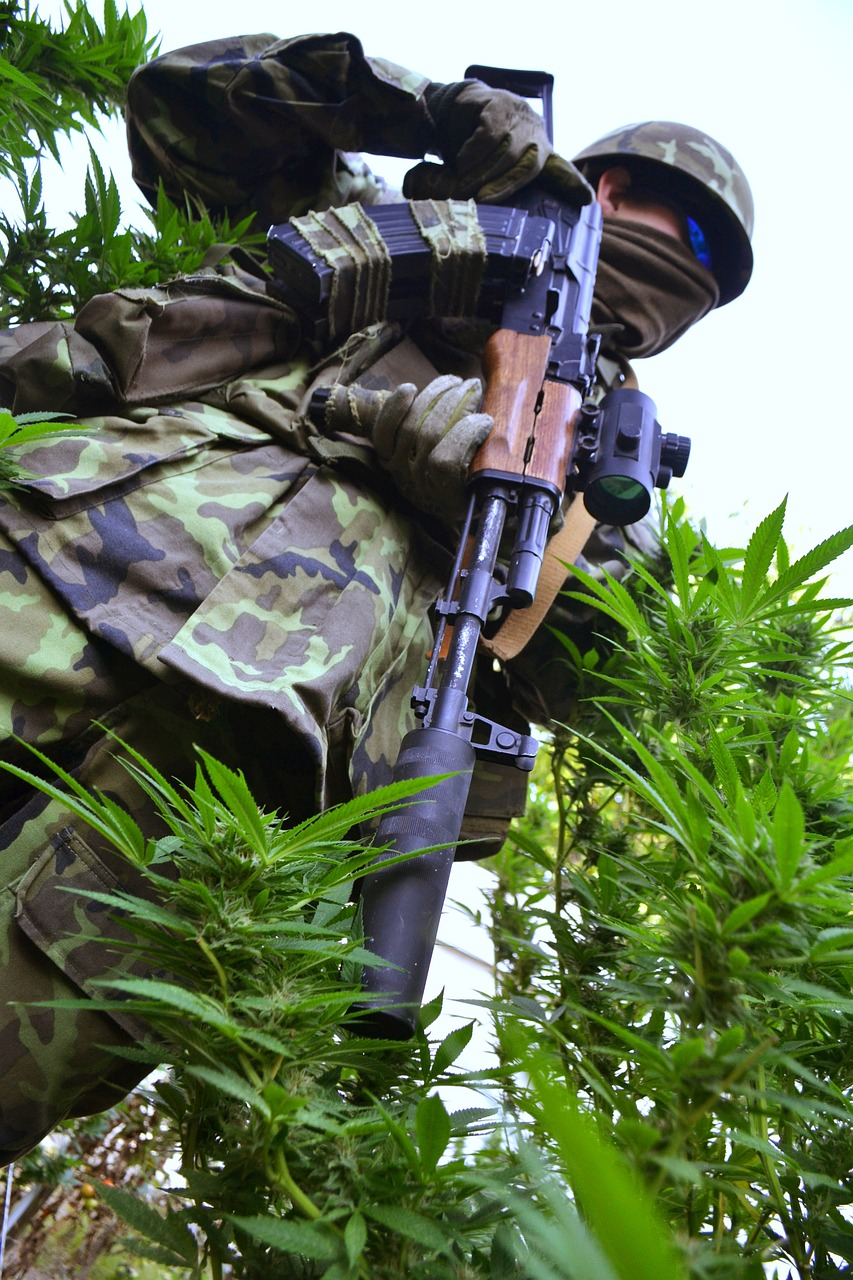gun: (251, 62, 697, 1057)
